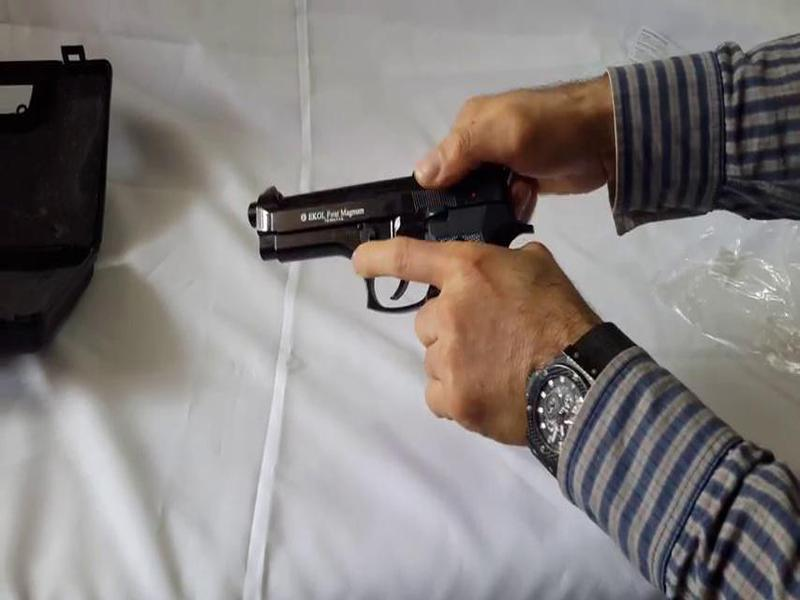Pistola: (236, 147, 544, 369)
